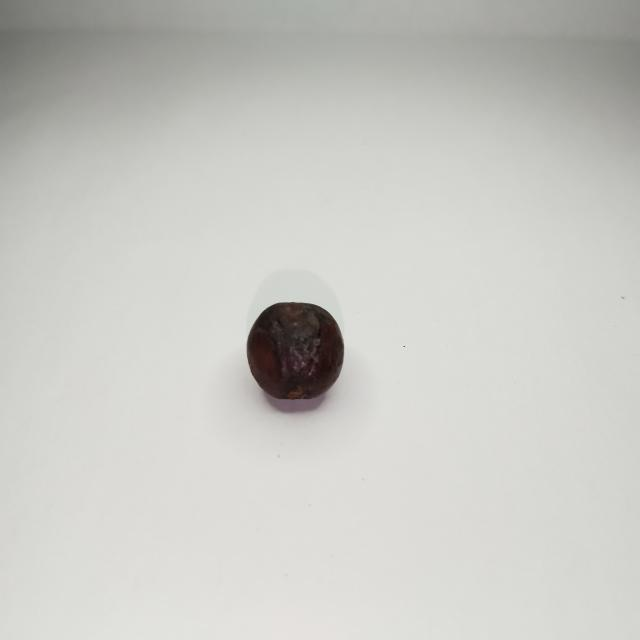Danado: (246, 303, 347, 402)
